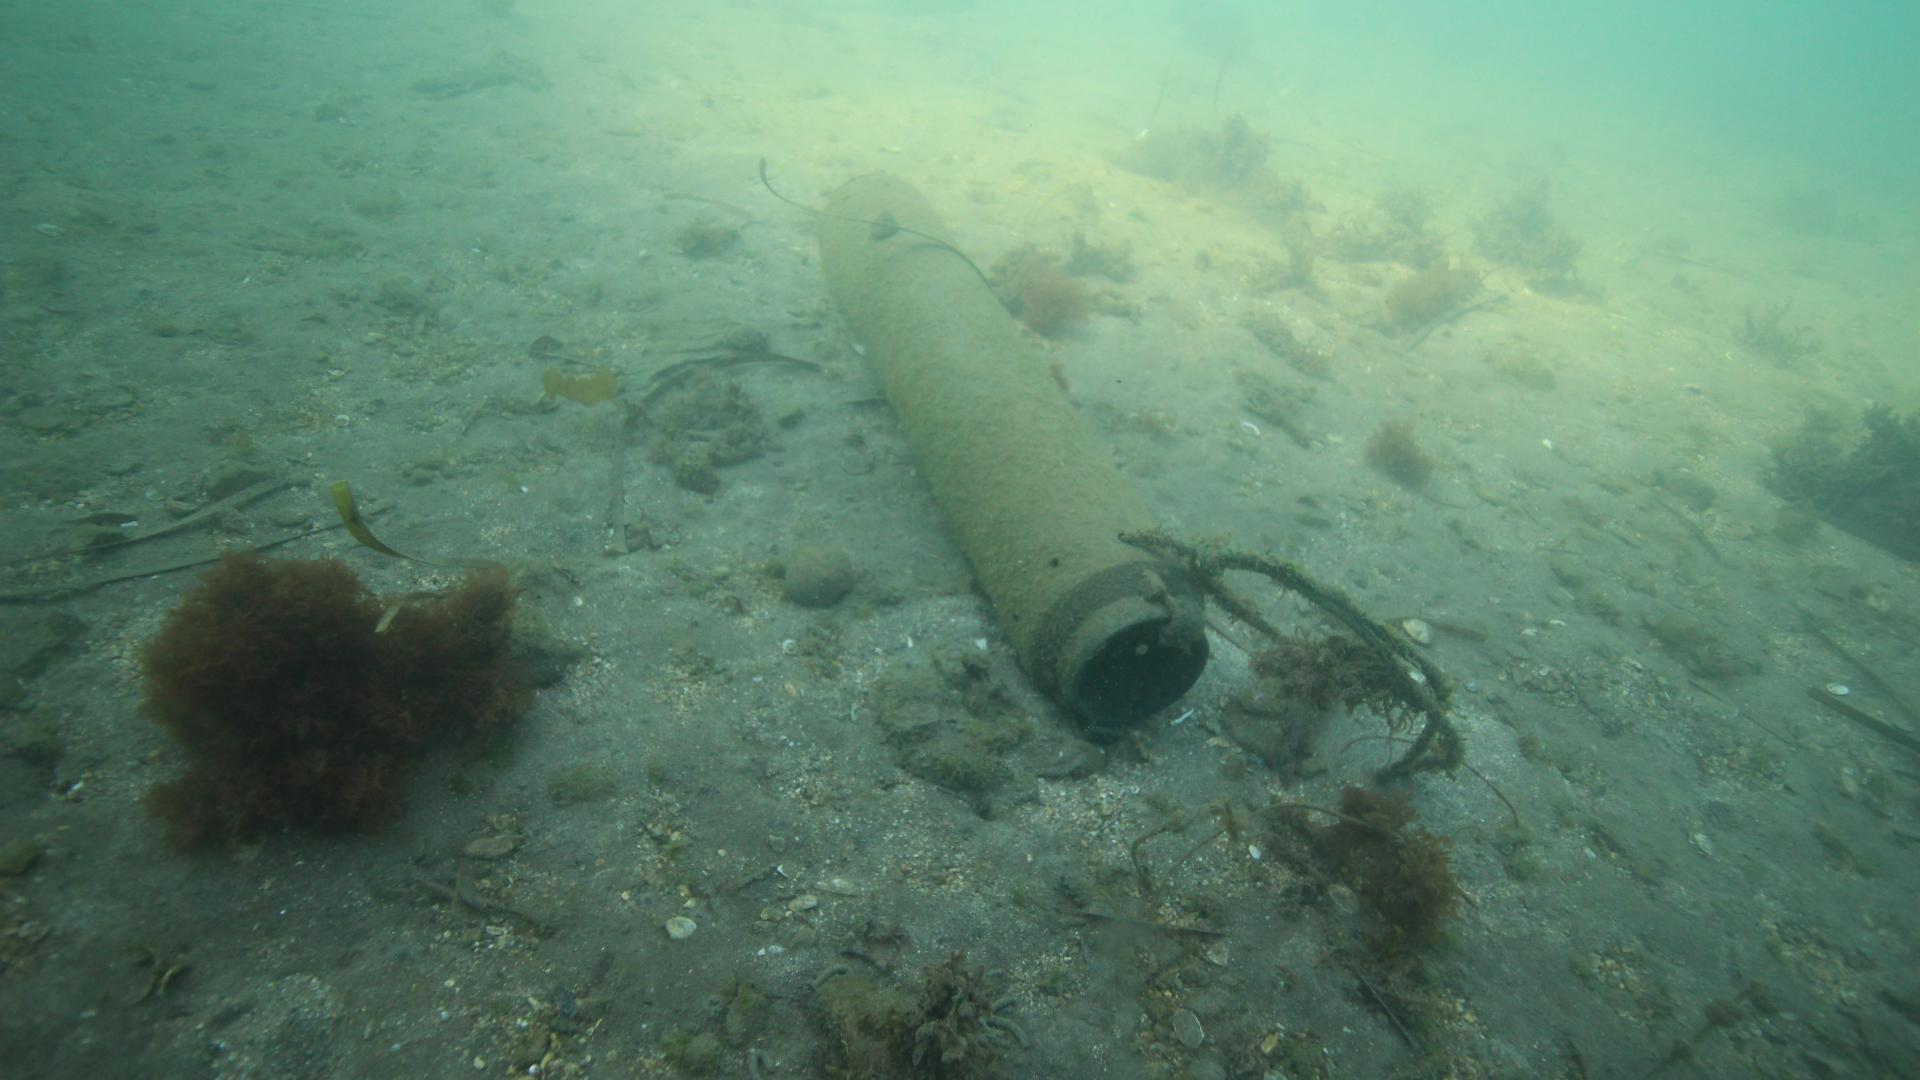bundle of ropes: (1131, 520, 1468, 789)
eel fish trap: (810, 167, 1211, 725)
